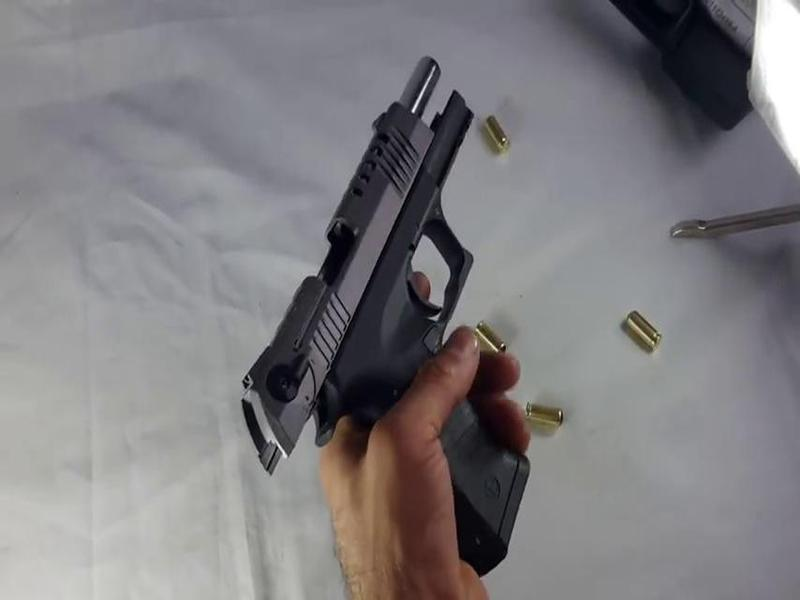Pistola: (216, 59, 565, 568)
